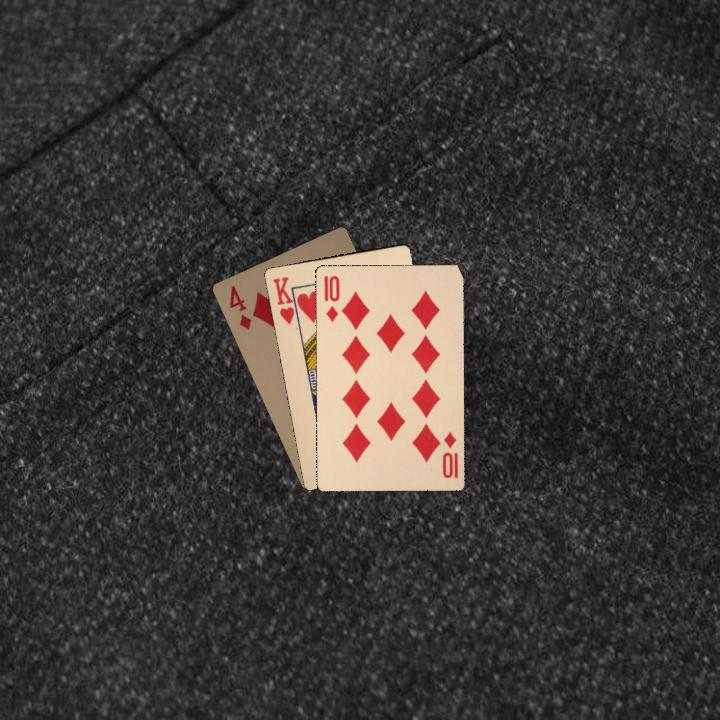10d: (438, 428, 461, 481), (320, 271, 342, 324)
4d: (225, 281, 254, 332)
Kh: (269, 273, 302, 327)
